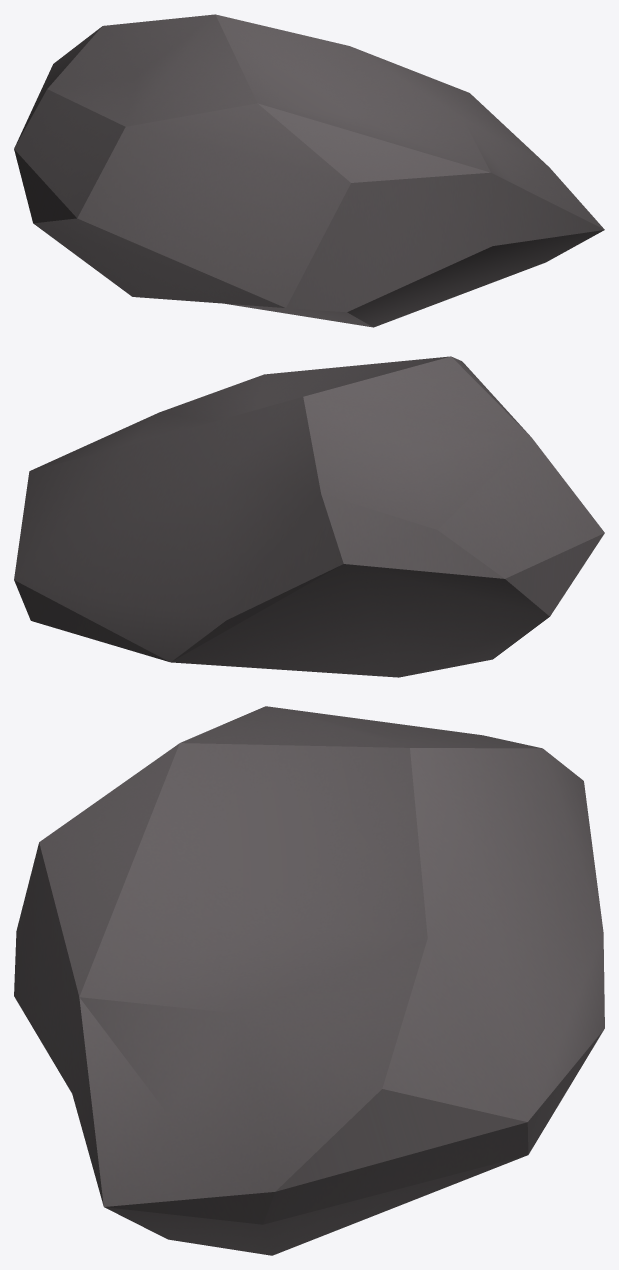
The model's file is Rocks00.fbx.
3 renders of one model, top to bottom at view 1: azimuth 30°, elevation 25°; view 2: azimuth 150°, elevation 25°; view 3: azimuth 270°, elevation 25°, orthographic. The views are drawn at different scales.
Parts seen in each view (by area): view 1: Rock.000; view 2: Rock.000; view 3: Rock.000.
Boxes of the visible parts, left/top/right/bottom form: Rock.000: left=14, top=14, right=604, bottom=327; Rock.000: left=14, top=356, right=604, bottom=677; Rock.000: left=14, top=706, right=604, bottom=1255.
Size of the model in its own units: 1.34 by 0.7344 by 1.04.
